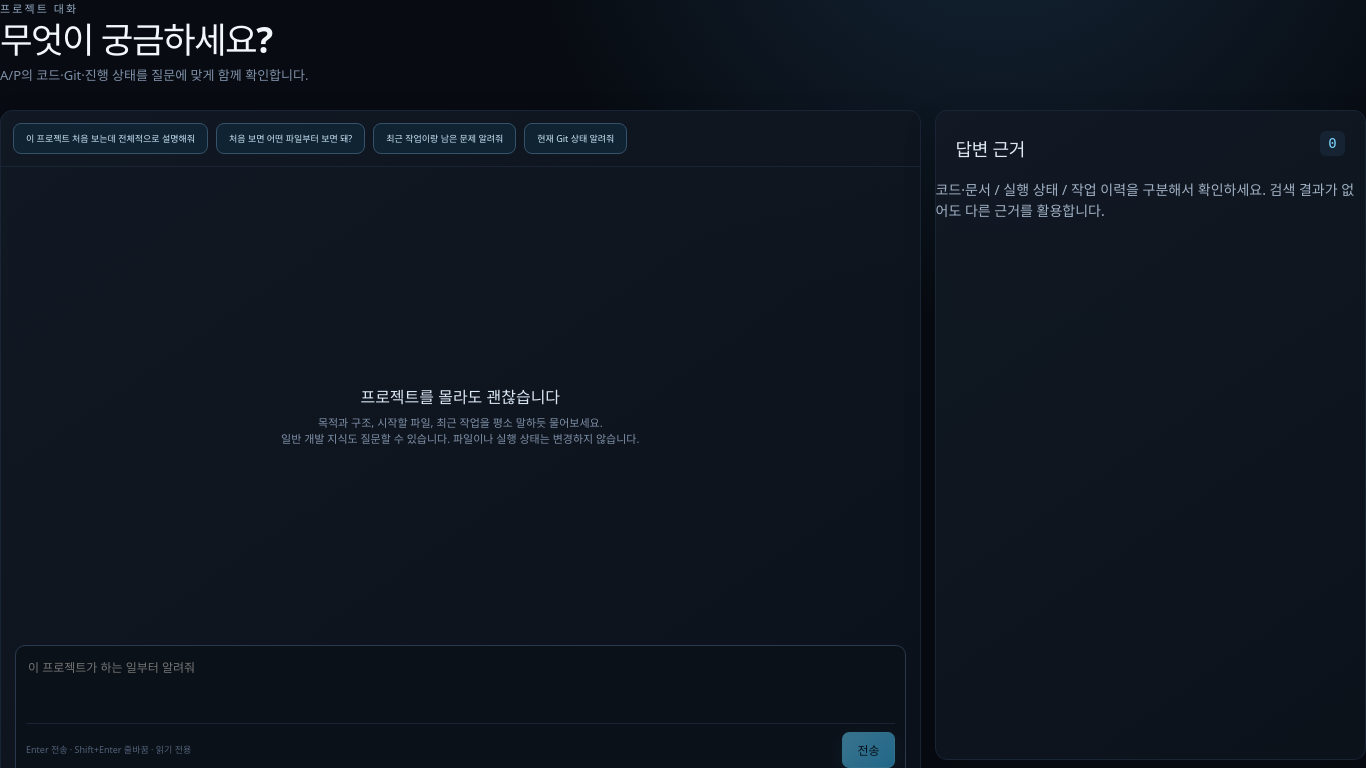
Test: retains source citation links and tool evidence details
Type "설명" into the text box named "채팅 질문" at (460, 687), box [26,656,894,718]
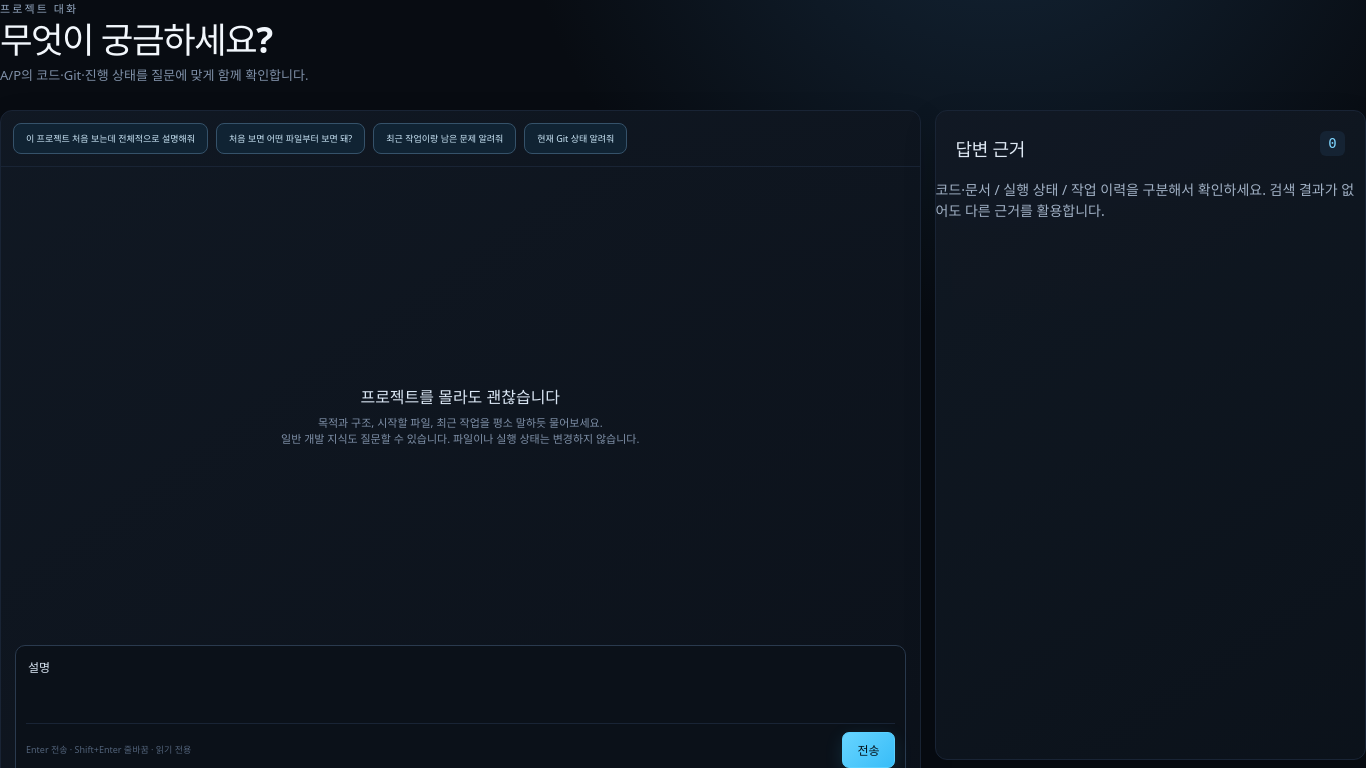
Click the button "전송" at (868, 750), box [842,732,894,767]
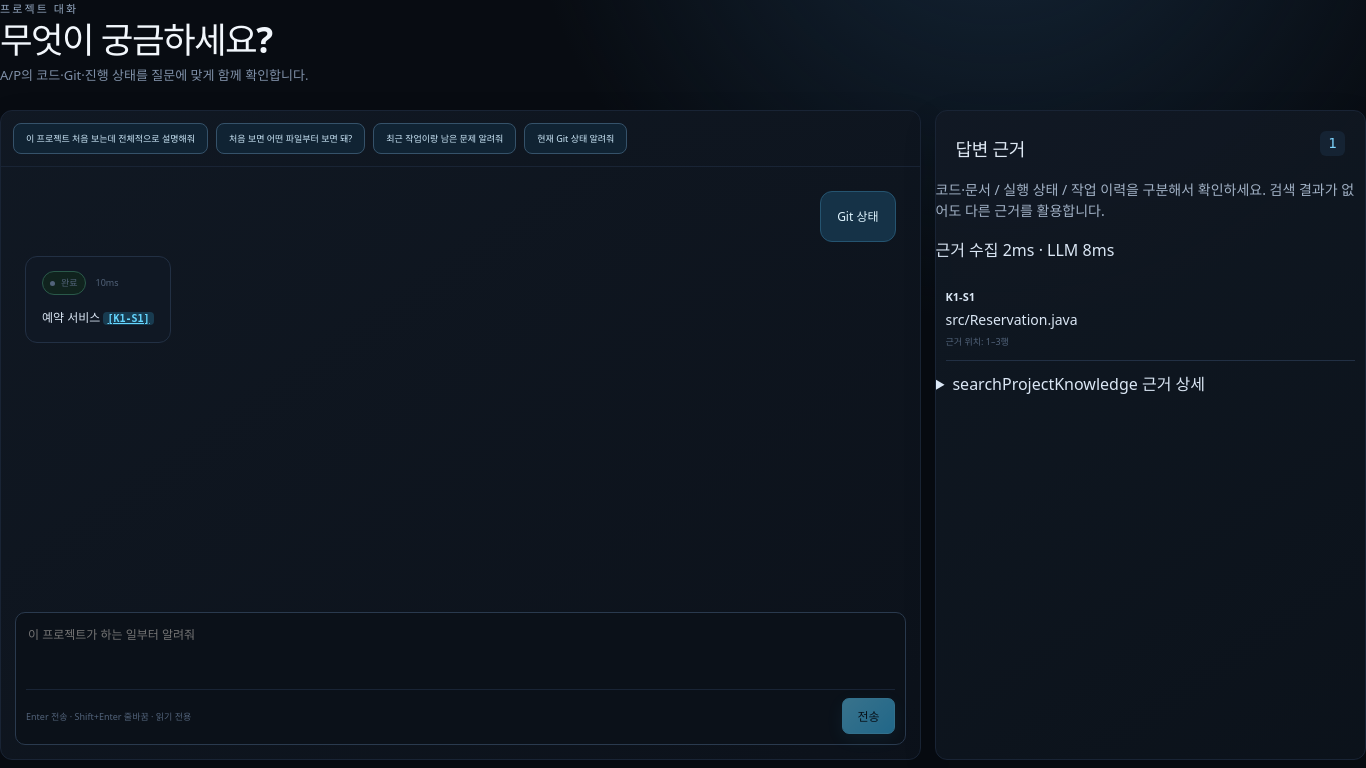
expect the text "src/Reservation.java" is shown: met, box [946,310,1078,329]
expect the heading "searchProjectKnowledge 근거 상세" is shown: met, box [952,373,1205,395]
